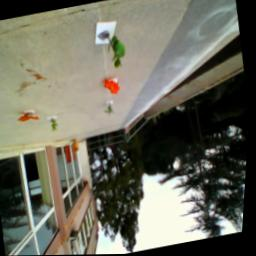herb: (106, 34, 131, 72), (50, 118, 62, 134), (106, 103, 117, 116)
wild: (18, 109, 44, 127), (103, 77, 124, 99)
